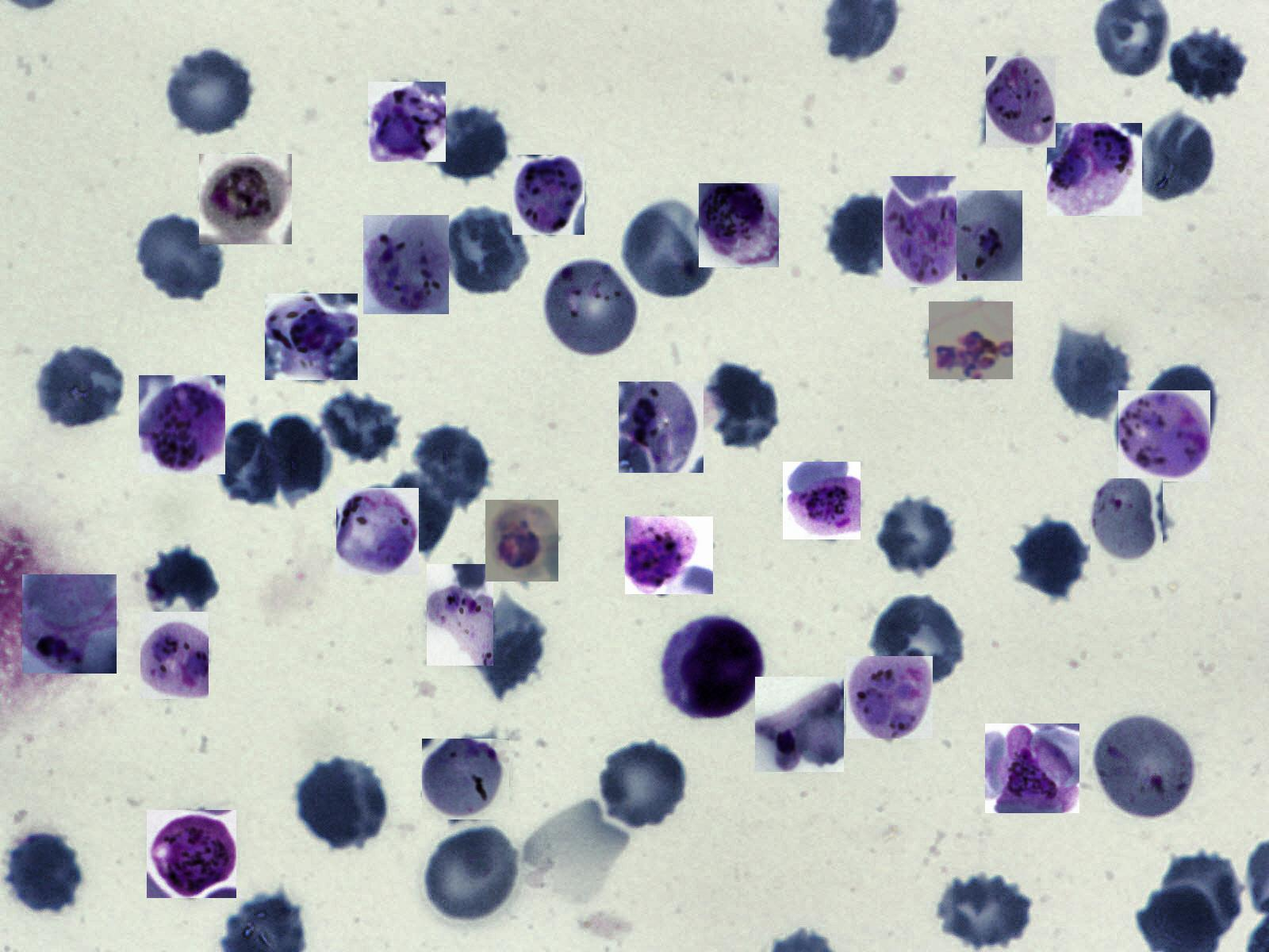Infected: (663, 612, 767, 721), (1097, 715, 1197, 820), (545, 258, 641, 359), (22, 574, 117, 674), (1047, 123, 1142, 216), (139, 375, 225, 474), (363, 215, 449, 314), (1118, 390, 1210, 482), (755, 677, 844, 772), (199, 154, 292, 244), (985, 724, 1079, 813), (883, 176, 957, 287), (265, 294, 358, 381), (148, 810, 237, 898), (619, 382, 704, 473), (846, 657, 933, 739), (337, 488, 419, 575), (422, 739, 509, 820), (625, 516, 713, 594), (948, 190, 1022, 281), (699, 183, 779, 267), (427, 565, 493, 666), (929, 301, 1013, 379), (986, 56, 1056, 148), (368, 82, 446, 162), (1091, 478, 1163, 563), (783, 463, 861, 540), (140, 612, 209, 699), (485, 500, 558, 582), (512, 155, 585, 235)
Uninfected: (424, 823, 523, 925), (619, 202, 716, 301), (871, 596, 966, 686), (163, 45, 256, 136), (597, 739, 690, 829), (1160, 852, 1245, 942), (297, 761, 385, 846), (938, 872, 1033, 950), (137, 216, 226, 299), (443, 209, 529, 294), (1137, 112, 1217, 203), (37, 346, 125, 425), (1051, 330, 1129, 418), (874, 495, 957, 575), (474, 604, 544, 697), (827, 192, 902, 278), (1145, 363, 1221, 447), (9, 831, 84, 915), (708, 366, 780, 453), (214, 420, 285, 508), (410, 427, 489, 505), (1170, 26, 1250, 102), (267, 410, 331, 504), (323, 386, 399, 460), (382, 474, 454, 552), (1020, 520, 1091, 597), (429, 109, 508, 178), (144, 545, 219, 609)
